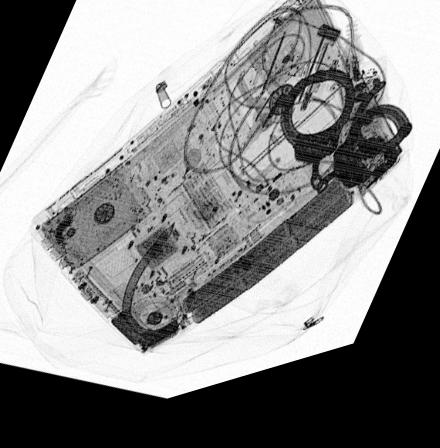HandCuffs: (282, 90, 411, 210)
